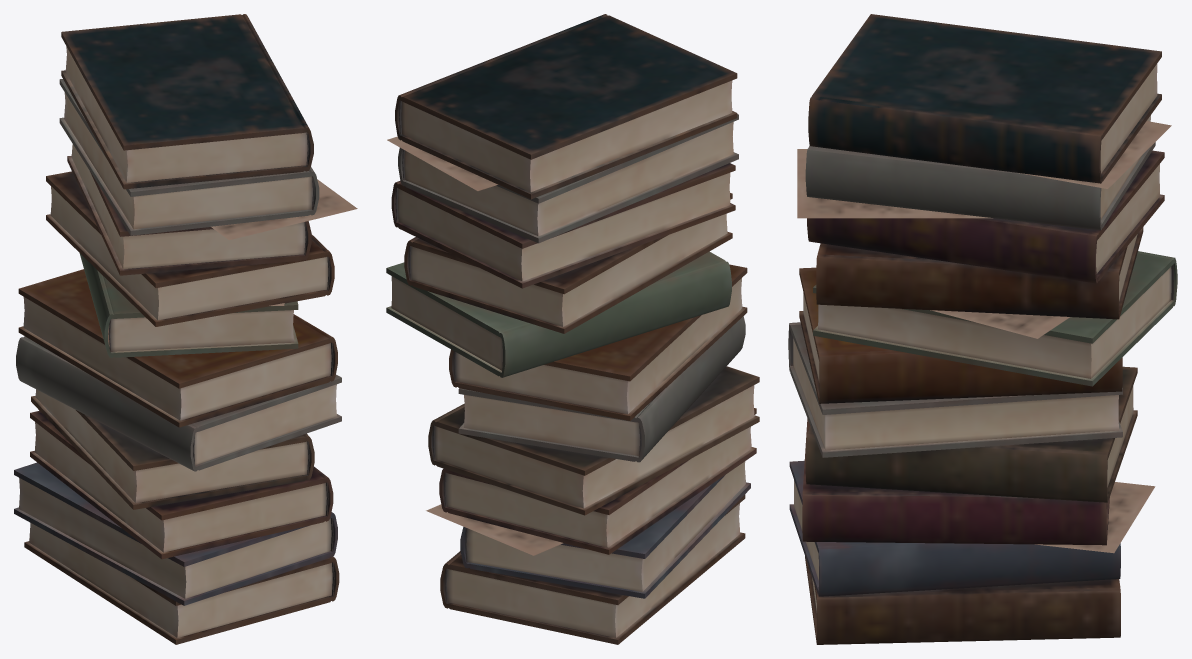
The model's file is book-pile-floor-large.glb.
The picture shows the model from 3 angles, left to right: view 1: azimuth 30°, elevation 25°; view 2: azimuth 150°, elevation 25°; view 3: azimuth 270°, elevation 25°; orthographic projection. The views are drawn at different scales.
Parts seen in each view (by area): view 1: book-pile-floor-large; view 2: book-pile-floor-large; view 3: book-pile-floor-large.
Part boxes in pixels (x1,y1,x2,y2): book-pile-floor-large: (14,14,357,644); book-pile-floor-large: (386,14,759,644); book-pile-floor-large: (788,14,1177,644).
Size of the model in its own units: 0.2505 by 0.4524 by 0.3002.
Materials: 1 (1 with a texture image).
